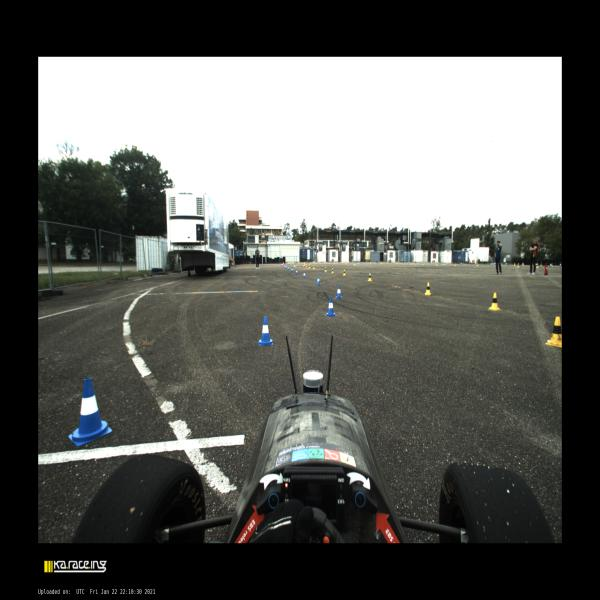blue_cone: (68, 377, 112, 446), (258, 316, 274, 347), (325, 297, 337, 316), (336, 285, 343, 299), (316, 276, 321, 285), (303, 271, 306, 278), (295, 269, 298, 275), (550, 263, 552, 268), (291, 268, 293, 272), (287, 266, 289, 270), (285, 265, 287, 269), (491, 262, 493, 266), (505, 262, 507, 266), (288, 262, 290, 265), (294, 262, 296, 265), (494, 262, 496, 265), (522, 262, 523, 266), (560, 263, 561, 267), (318, 261, 320, 263), (448, 262, 449, 265), (378, 261, 379, 264), (392, 261, 393, 264), (461, 262, 462, 265), (475, 263, 476, 266), (362, 261, 363, 264), (408, 262, 409, 264), (438, 262, 439, 264), (284, 264, 284, 268)
large_orange_cone: (304, 261, 306, 267), (282, 262, 284, 267)
yellow_cone: (545, 316, 562, 348), (488, 292, 501, 310), (425, 282, 431, 295), (368, 274, 372, 282), (343, 270, 346, 276), (331, 268, 334, 274), (324, 267, 327, 272), (308, 264, 311, 268), (536, 264, 539, 268), (517, 263, 519, 268), (313, 265, 315, 269), (514, 262, 516, 266), (454, 263, 456, 266), (436, 263, 438, 266), (422, 262, 424, 265), (476, 263, 478, 266), (540, 263, 542, 266), (306, 264, 307, 268), (396, 262, 398, 264), (410, 262, 412, 264), (380, 262, 382, 264), (319, 262, 321, 264), (358, 262, 360, 264), (551, 264, 553, 266), (523, 263, 524, 266), (370, 262, 371, 264), (310, 262, 311, 264), (334, 262, 335, 264), (346, 262, 347, 264)
